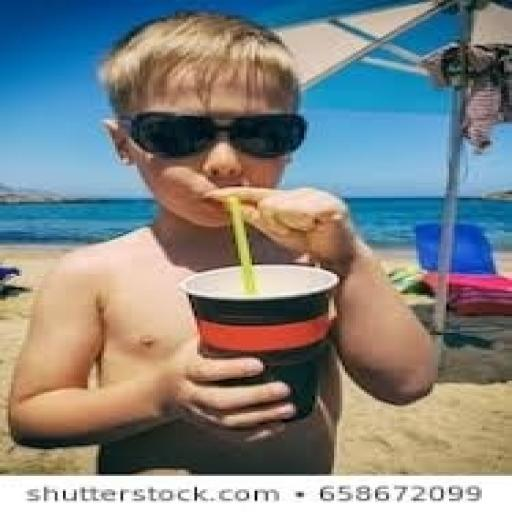drinking: (175, 260, 340, 422)
